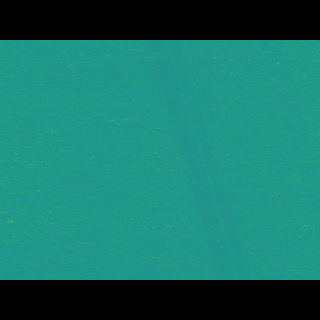Loch: (139, 69, 267, 251), (257, 71, 320, 226)
